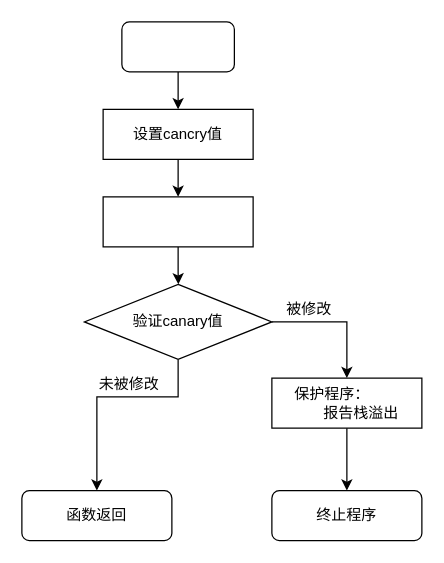
The diagram is 444 pixels wide and 563 high, and some of its shapes have lost their labels. Each missing label, with the box of its shape:
函数开始: (121, 21, 234, 72)
执行函数: (102, 196, 253, 247)
